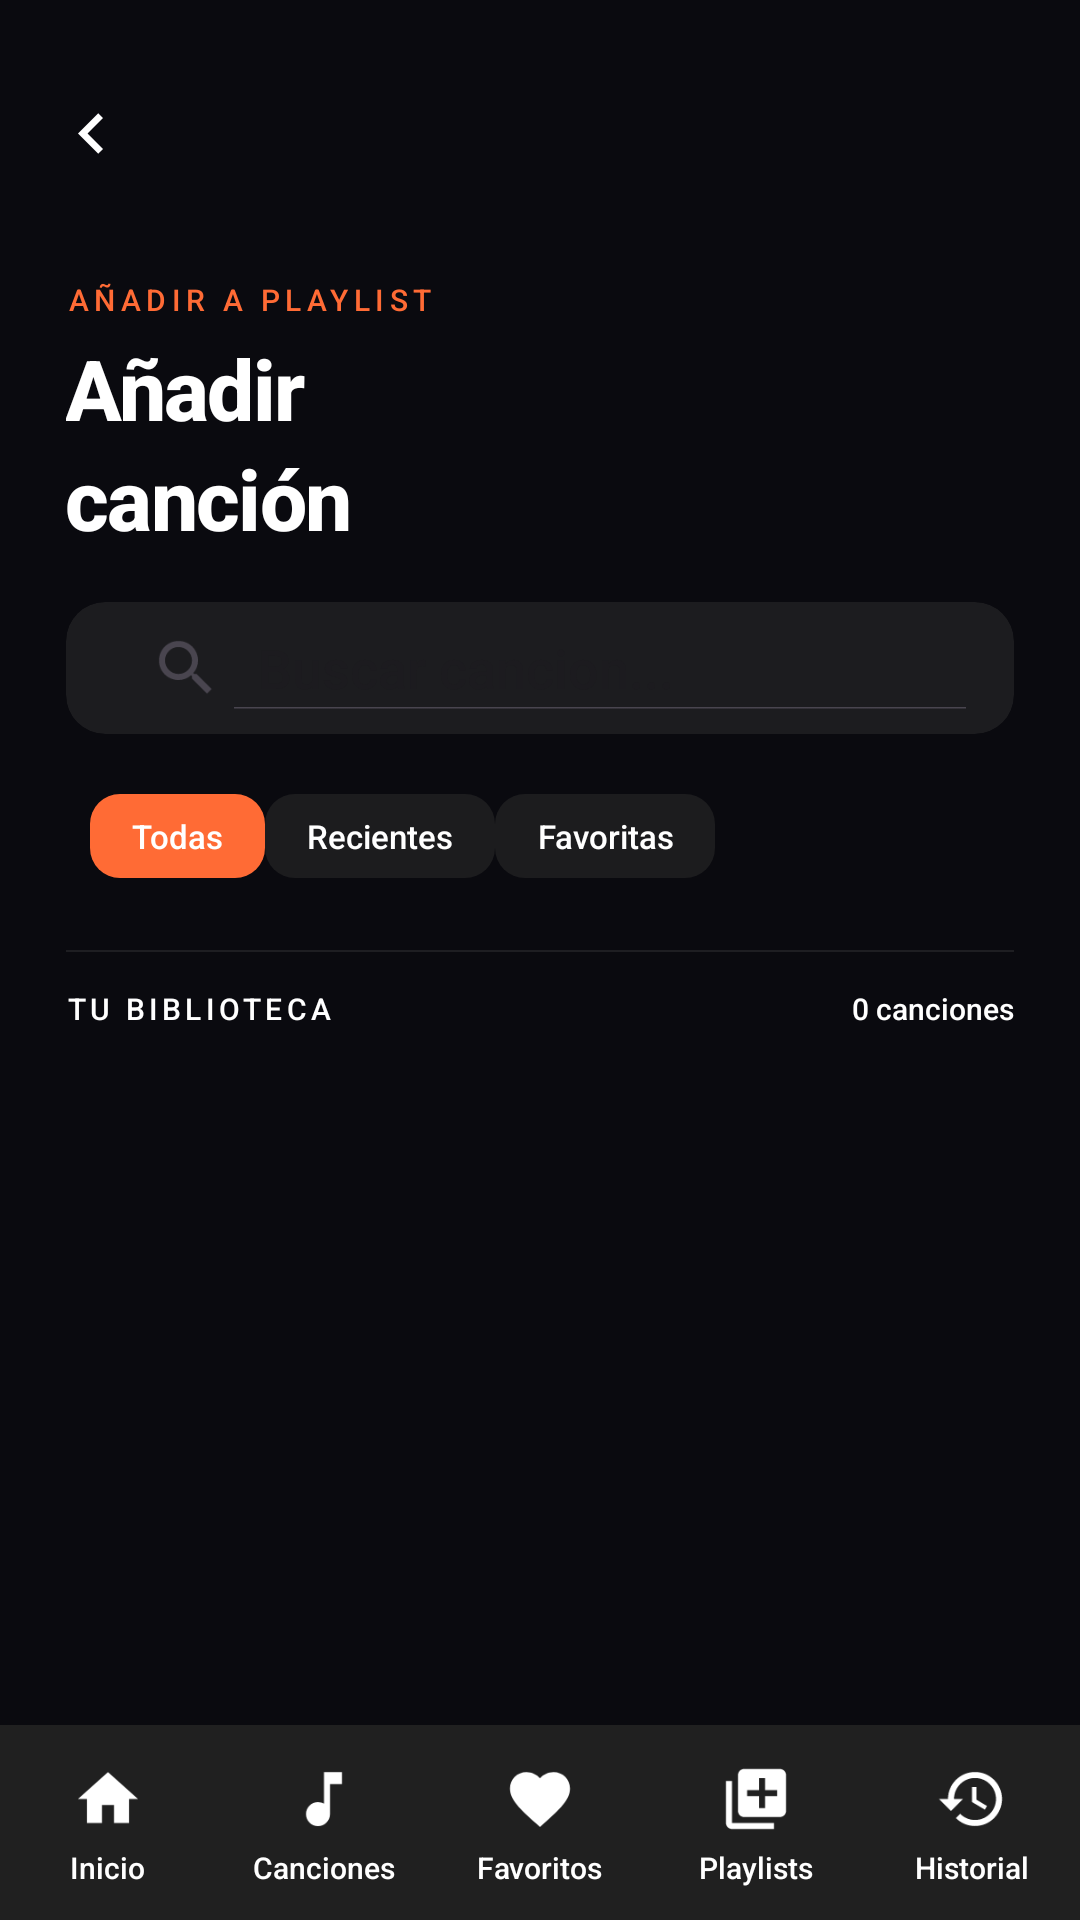

Icons on this 1080px×1920px Android screen, each with the point to tap as (x=x, y=y):
back: (x=90, y=133)
